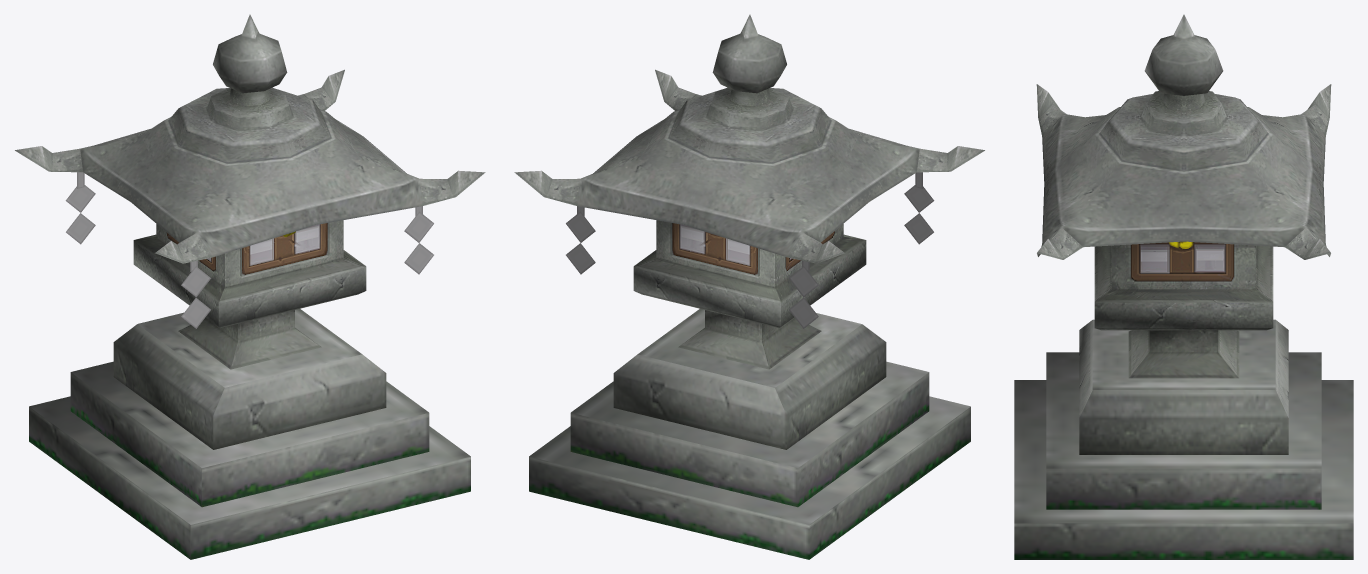
Rendered from xx_shideng.FBX.
3 renders of one model, left to right at view 1: azimuth 30°, elevation 25°; view 2: azimuth 150°, elevation 25°; view 3: azimuth 270°, elevation 25°, orthographic. The views are drawn at different scales.
Visible parts, largest first — view 1: ss_ludeng_04; view 2: ss_ludeng_04; view 3: ss_ludeng_04.
Boxes of the visible parts, x1,y1,x2,y2 form: ss_ludeng_04: (15, 14, 485, 559); ss_ludeng_04: (514, 14, 984, 559); ss_ludeng_04: (1014, 14, 1353, 559).
Size of the model in its own units: 4.68 by 6.11 by 3.96.
